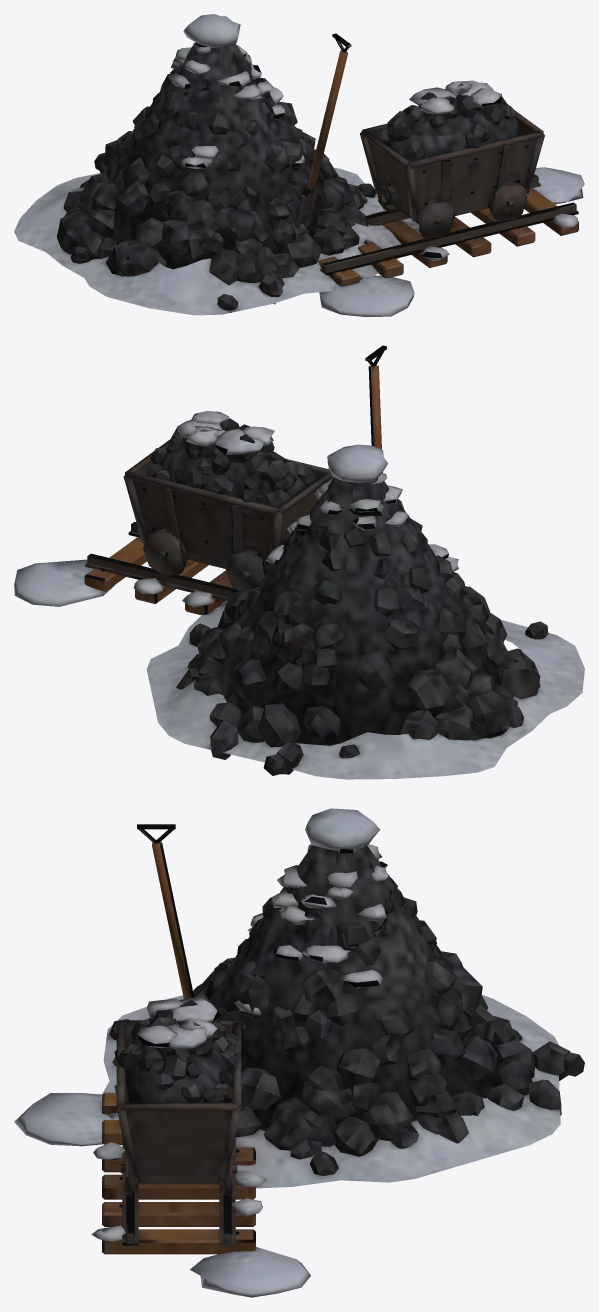
File: coal.glb
The picture shows the model from 3 angles, top to bottom: view 1: azimuth 30°, elevation 25°; view 2: azimuth 150°, elevation 25°; view 3: azimuth 270°, elevation 25°; orthographic projection. The views are drawn at different scales.
Visible parts, largest first — view 1: model; view 2: model; view 3: model.
Boxes of the visible parts, x1,y1,x2,y2 form: model: (14, 14, 584, 316); model: (14, 345, 584, 779); model: (14, 808, 584, 1297).
Size of the model in its own units: 4.47 by 2.1 by 3.53.
1 material, 1 textured.
